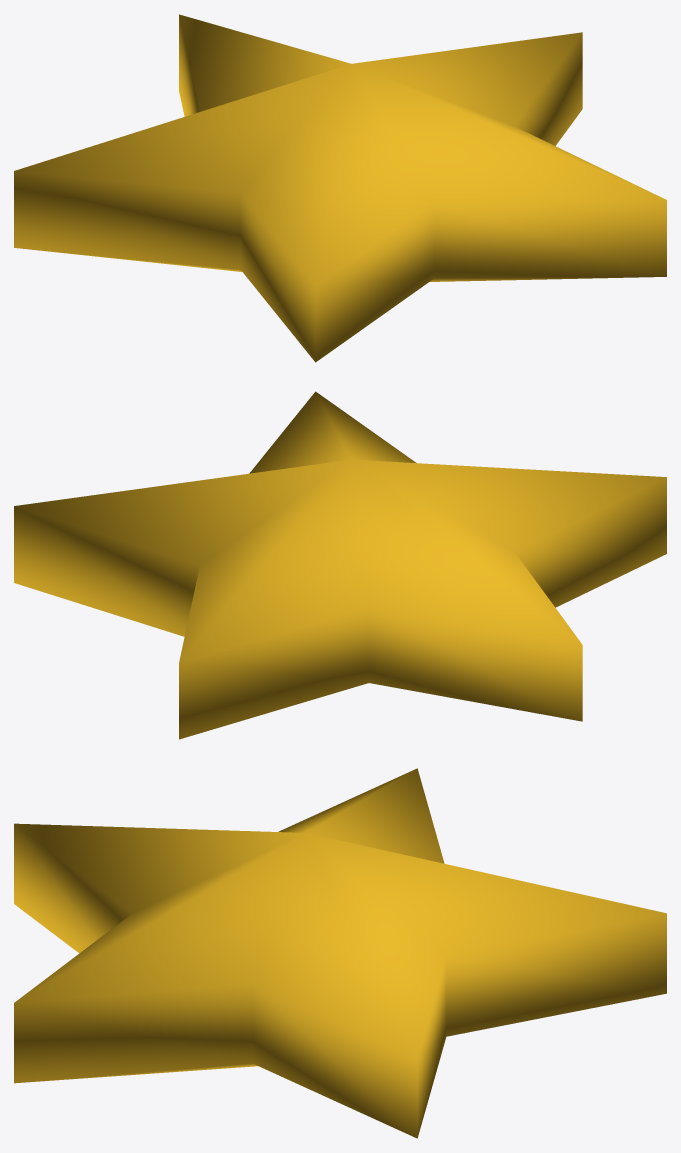
File: star.glb
The picture shows the model from 3 angles, top to bottom: view 1: azimuth 30°, elevation 25°; view 2: azimuth 150°, elevation 25°; view 3: azimuth 270°, elevation 25°; orthographic projection. The views are drawn at different scales.
Parts seen in each view (by area): view 1: Cylinder; view 2: Cylinder; view 3: Cylinder.
Part boxes in pixels (box(x1,y1,x2,y2)): Cylinder: box(14, 14, 666, 362); Cylinder: box(14, 391, 666, 739); Cylinder: box(14, 768, 666, 1138).
Bounding box in the file's own units: 1.9 × 0.703 × 1.81.
